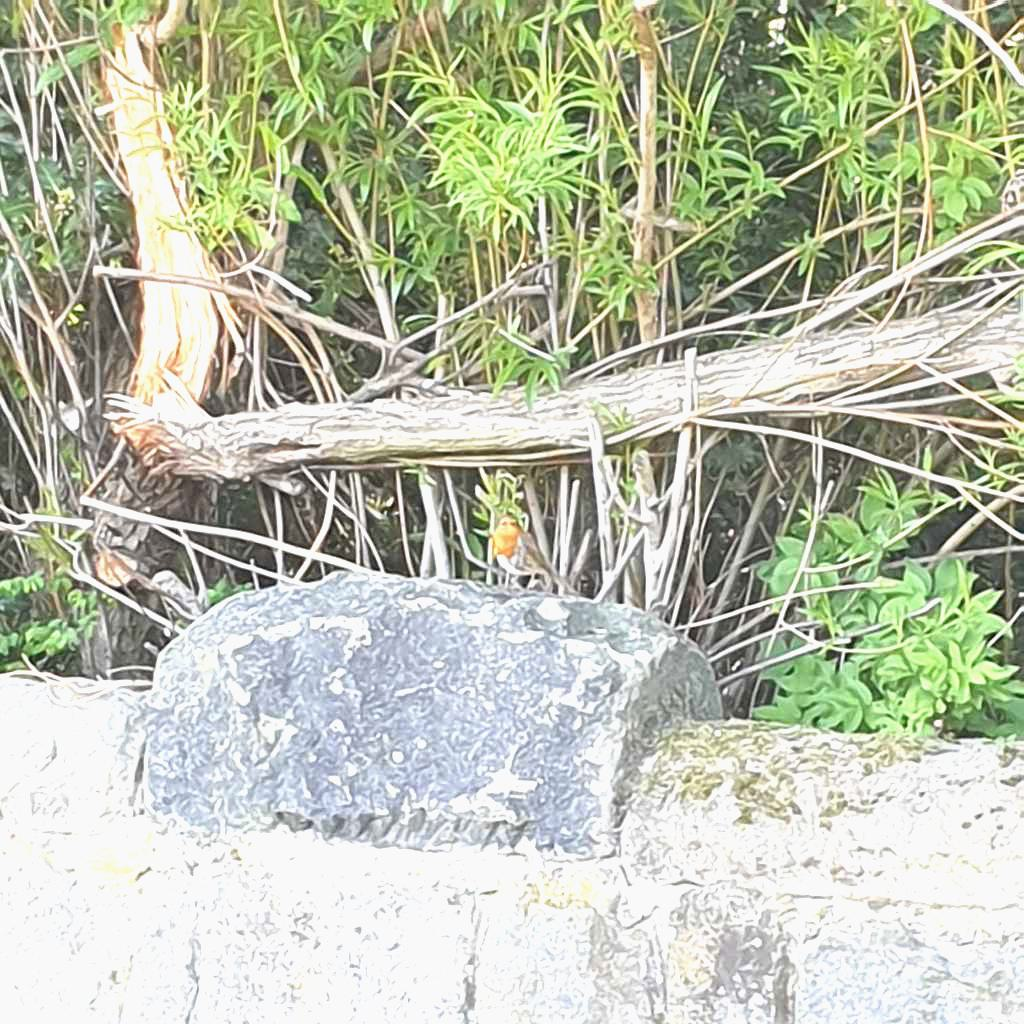ErithacusRubecula: (489, 512, 556, 589)
